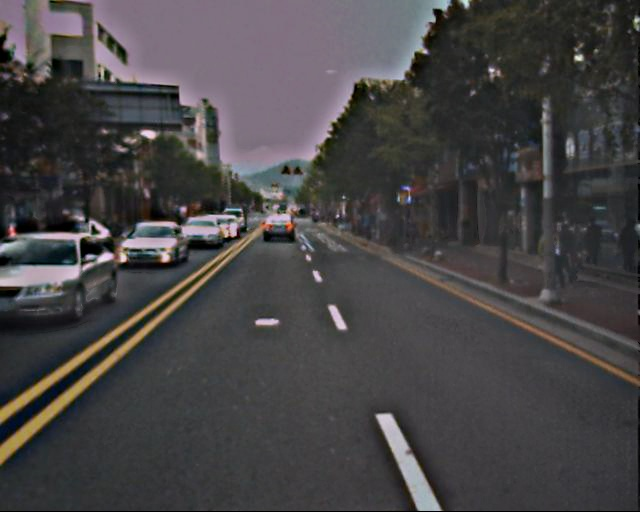person: (543, 218, 575, 288), (563, 218, 589, 280), (614, 219, 640, 273), (582, 220, 601, 264)
